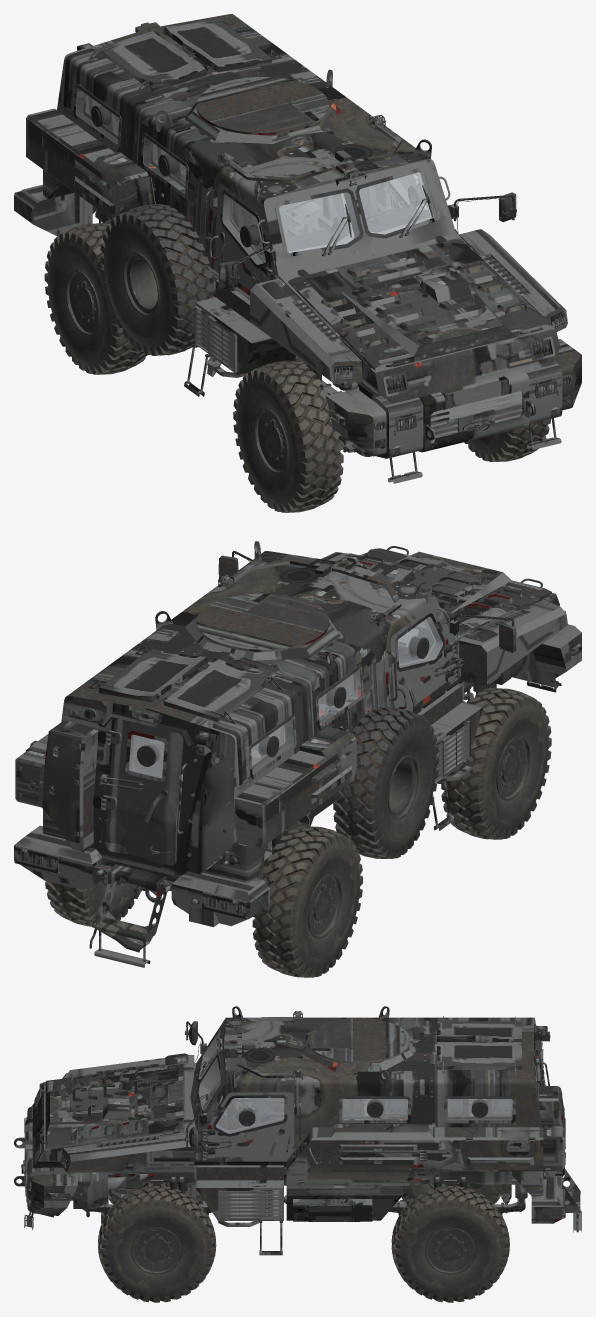
File: VEH_Marauder.glb
3 renders of one model, top to bottom at view 1: azimuth 30°, elevation 25°; view 2: azimuth 150°, elevation 25°; view 3: azimuth 270°, elevation 25°, orthographic. The views are drawn at different scales.
Parts seen in each view (by area): view 1: ob_veh_car_marauder_base_s0, ob_veh_car_marauder_base_s2, ob_veh_car_marauder_wheelright_s0_p0, ob_veh_car_marauder_base_s1, ob_veh_car_marauder_wheelright_s0_p1, ob_veh_car_marauder_cockpit_1p_s3_p0, ob_veh_car_marauder_cockpit_1p_s0_p0, ob_veh_car_marauder_wheelleft_s0_p0, ob_veh_car_marauder_cargobay_1p_s0_p0, ob_veh_car_marauder_base_s4, ob_veh_car_marauder_base_s3; view 2: ob_veh_car_marauder_base_s0, ob_veh_car_marauder_base_s2, ob_veh_car_marauder_wheelright_s0_p1, ob_veh_car_marauder_wheelright_s0_p0, ob_veh_car_marauder_base_s1, ob_veh_car_marauder_wheelleft_s0_p1, ob_veh_car_marauder_base_s4, ob_veh_car_marauder_cockpit_1p_s0_p0, ob_veh_car_marauder_cargobay_1p_s0_p0, ob_veh_car_marauder_cockpit_1p_s3_p0; view 3: ob_veh_car_marauder_base_s0, ob_veh_car_marauder_wheelleft_s0_p1, ob_veh_car_marauder_wheelleft_s0_p0, ob_veh_car_marauder_base_s1, ob_veh_car_marauder_cockpit_1p_s0_p0, ob_veh_car_marauder_cockpit_1p_s3_p0, ob_veh_car_marauder_cargobay_1p_s0_p0, ob_veh_car_marauder_base_s4, ob_veh_car_marauder_base_s2, ob_veh_car_marauder_wheelright_s0_p1.
Boxes of the visible parts, x1,y1,x2,y2 form: ob_veh_car_marauder_base_s0: (14, 14, 581, 483); ob_veh_car_marauder_base_s2: (91, 105, 424, 355); ob_veh_car_marauder_wheelright_s0_p0: (233, 361, 343, 512); ob_veh_car_marauder_base_s1: (76, 88, 436, 264); ob_veh_car_marauder_wheelright_s0_p1: (44, 223, 147, 374); ob_veh_car_marauder_cockpit_1p_s3_p0: (84, 93, 430, 252); ob_veh_car_marauder_cockpit_1p_s0_p0: (86, 95, 436, 260); ob_veh_car_marauder_wheelleft_s0_p0: (464, 419, 550, 461); ob_veh_car_marauder_cargobay_1p_s0_p0: (89, 96, 322, 233); ob_veh_car_marauder_base_s4: (230, 199, 553, 426); ob_veh_car_marauder_base_s3: (332, 316, 562, 427); ob_veh_car_marauder_base_s0: (14, 541, 581, 967); ob_veh_car_marauder_base_s2: (129, 617, 442, 858); ob_veh_car_marauder_wheelright_s0_p1: (252, 826, 362, 977); ob_veh_car_marauder_wheelright_s0_p0: (441, 688, 551, 839); ob_veh_car_marauder_base_s1: (129, 617, 442, 778); ob_veh_car_marauder_wheelleft_s0_p1: (45, 880, 140, 926); ob_veh_car_marauder_base_s4: (51, 620, 435, 859); ob_veh_car_marauder_cockpit_1p_s0_p0: (153, 621, 432, 765); ob_veh_car_marauder_cargobay_1p_s0_p0: (134, 676, 351, 774); ob_veh_car_marauder_cockpit_1p_s3_p0: (251, 676, 351, 765); ob_veh_car_marauder_base_s0: (14, 1006, 581, 1255); ob_veh_car_marauder_wheelleft_s0_p1: (391, 1186, 509, 1302); ob_veh_car_marauder_wheelleft_s0_p0: (97, 1186, 216, 1302); ob_veh_car_marauder_base_s1: (199, 1029, 512, 1133); ob_veh_car_marauder_cockpit_1p_s0_p0: (199, 1029, 485, 1129); ob_veh_car_marauder_cockpit_1p_s3_p0: (209, 1052, 512, 1116); ob_veh_car_marauder_cargobay_1p_s0_p0: (343, 1099, 511, 1115); ob_veh_car_marauder_base_s4: (26, 1098, 283, 1182); ob_veh_car_marauder_base_s2: (216, 1079, 541, 1133); ob_veh_car_marauder_wheelright_s0_p1: (401, 1183, 501, 1204).
Bounding box in the file's own units: 3.18 × 2.9 × 6.77.
7 materials, 5 textured.
